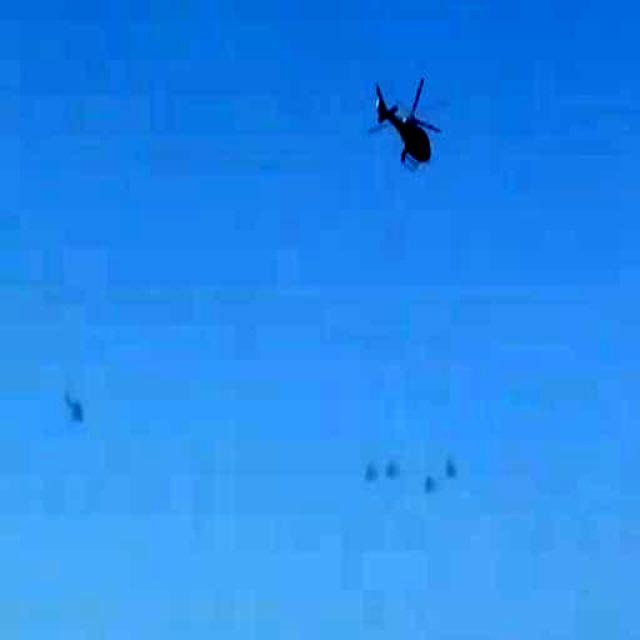drone: (364, 45, 449, 175), (59, 380, 92, 440)
